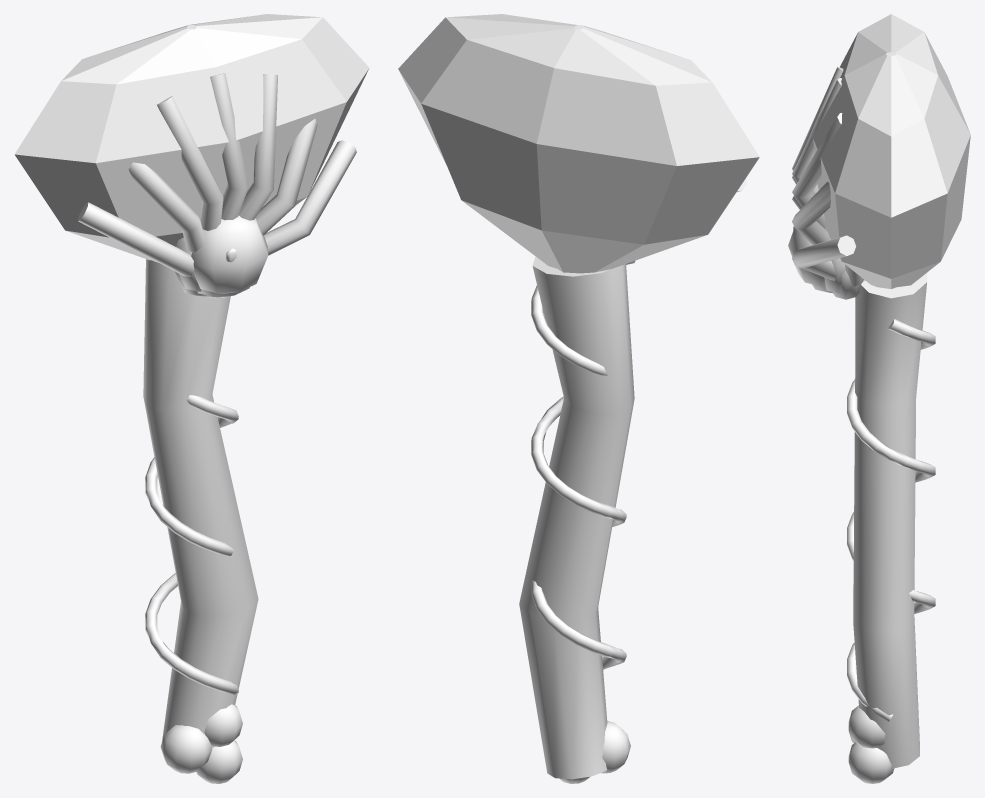
File: shovel.obj
3 views of the same model, side by side, from view 1: azimuth 30°, elevation 25°; view 2: azimuth 150°, elevation 25°; view 3: azimuth 270°, elevation 25° (orthographic). The views are drawn at different scales.
Parts seen in each view (by area): view 1: head, handle, ornaments; view 2: head, handle; view 3: head, handle, ornaments.
Part boxes in pixels (x1=…): head: x1=14, y1=14, x2=369, y2=297; handle: x1=143, y1=259, x2=258, y2=783; ornaments: x1=174, y1=215, x2=268, y2=293; head: x1=398, y1=14, x2=759, y2=273; handle: x1=519, y1=256, x2=634, y2=783; head: x1=792, y1=14, x2=970, y2=299; handle: x1=847, y1=273, x2=935, y2=783; ornaments: x1=788, y1=226, x2=862, y2=293.
Bounding box in the file's own units: 0.434 × 0.8773 × 0.2017.
